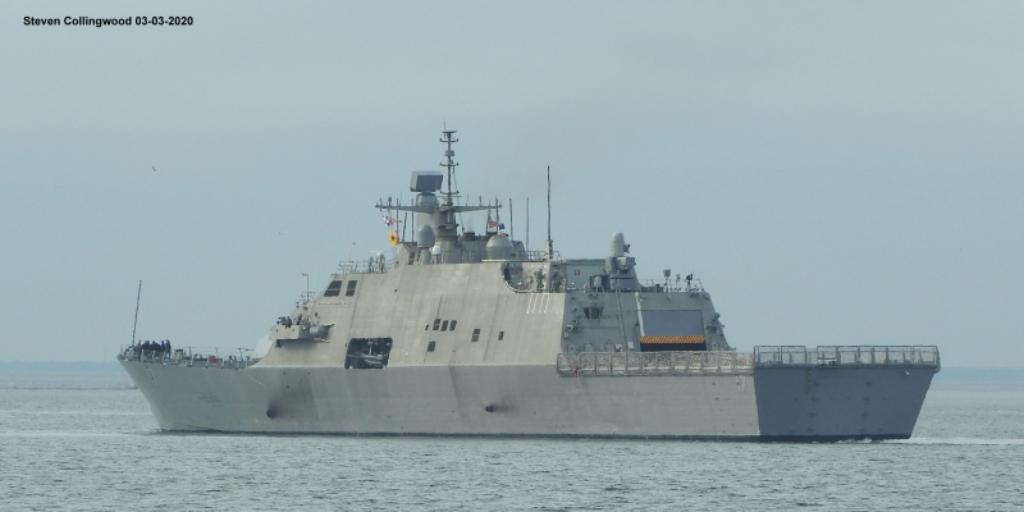Warship: (113, 118, 945, 442)
